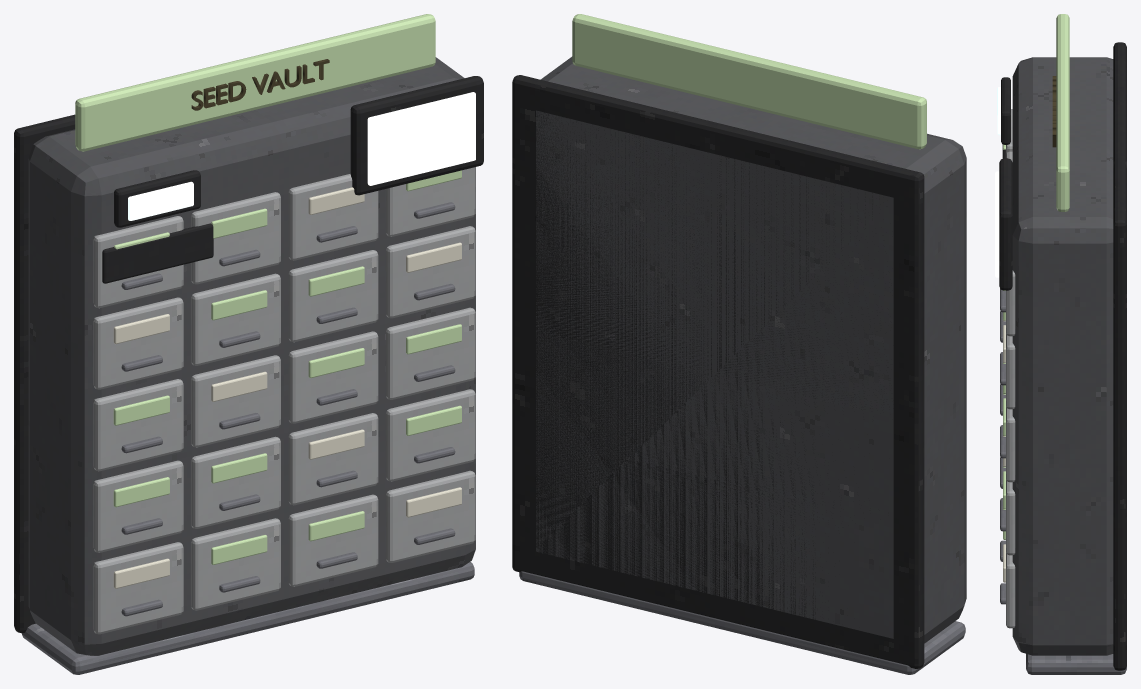
Rendered from decor_bot_seed_vault.glb.
3 views of the same model, side by side, from view 1: azimuth 30°, elevation 25°; view 2: azimuth 150°, elevation 25°; view 3: azimuth 270°, elevation 25° (orthographic). The views are drawn at different scales.
Parts seen in each view (by area): view 1: DEC_BotSeedVault__Carcass, DEC_BotSeedVault__Header, DEC_BotSeedVault__Carcass_Trim, DEC_BotSeedVault__Catalogue_Glow, DEC_BotSeedVault__Under_Shelf, DEC_BotSeedVault__Drawer_3, DEC_BotSeedVault__Drawer_7, DEC_BotSeedVault__Drawer_15, DEC_BotSeedVault__Drawer_5, DEC_BotSeedVault__Drawer_11, DEC_BotSeedVault__Drawer_1, DEC_BotSeedVault__Drawer_9 (+36 smaller); view 2: DEC_BotSeedVault__Carcass, DEC_BotSeedVault__Carcass_Trim, DEC_BotSeedVault__Header, DEC_BotSeedVault__Under_Shelf; view 3: DEC_BotSeedVault__Carcass, DEC_BotSeedVault__Carcass_Trim, DEC_BotSeedVault__Header, DEC_BotSeedVault__Catalogue_Bezel, DEC_BotSeedVault__Under_Shelf, DEC_BotSeedVault__Drawer_4, DEC_BotSeedVault__Drawer_8, DEC_BotSeedVault__Drawer_12, DEC_BotSeedVault__Drawer_16, DEC_BotSeedVault__Chill_Bezel, DEC_BotSeedVault__Drawer_20, DEC_BotSeedVault__Catalogue_Glow (+1 smaller).
Boxes of the visible parts, x1=… form: DEC_BotSeedVault__Carcass: x1=28, y1=57, x2=475, y2=655; DEC_BotSeedVault__Header: x1=75, y1=14, x2=435, y2=151; DEC_BotSeedVault__Carcass_Trim: x1=14, y1=114, x2=75, y2=632; DEC_BotSeedVault__Catalogue_Glow: x1=367, y1=92, x2=475, y2=185; DEC_BotSeedVault__Under_Shelf: x1=21, y1=562, x2=474, y2=674; DEC_BotSeedVault__Drawer_3: x1=288, y1=494, x2=378, y2=586; DEC_BotSeedVault__Drawer_7: x1=288, y1=413, x2=378, y2=505; DEC_BotSeedVault__Drawer_15: x1=288, y1=250, x2=378, y2=342; DEC_BotSeedVault__Drawer_5: x1=93, y1=460, x2=183, y2=552; DEC_BotSeedVault__Drawer_11: x1=288, y1=331, x2=378, y2=423; DEC_BotSeedVault__Drawer_1: x1=93, y1=542, x2=183, y2=634; DEC_BotSeedVault__Drawer_9: x1=93, y1=379, x2=183, y2=471; DEC_BotSeedVault__Carcass: x1=536, y1=56, x2=966, y2=643; DEC_BotSeedVault__Carcass_Trim: x1=512, y1=75, x2=924, y2=668; DEC_BotSeedVault__Header: x1=572, y1=14, x2=926, y2=149; DEC_BotSeedVault__Under_Shelf: x1=519, y1=571, x2=965, y2=674; DEC_BotSeedVault__Carcass: x1=1012, y1=57, x2=1113, y2=655; DEC_BotSeedVault__Carcass_Trim: x1=1113, y1=42, x2=1126, y2=670; DEC_BotSeedVault__Header: x1=1056, y1=14, x2=1069, y2=211; DEC_BotSeedVault__Catalogue_Bezel: x1=999, y1=158, x2=1012, y2=290; DEC_BotSeedVault__Under_Shelf: x1=1026, y1=654, x2=1126, y2=674; DEC_BotSeedVault__Drawer_4: x1=1006, y1=552, x2=1015, y2=628; DEC_BotSeedVault__Drawer_8: x1=1006, y1=479, x2=1015, y2=555; DEC_BotSeedVault__Drawer_12: x1=1006, y1=406, x2=1015, y2=482; DEC_BotSeedVault__Drawer_16: x1=1006, y1=333, x2=1015, y2=409; DEC_BotSeedVault__Chill_Bezel: x1=1001, y1=77, x2=1010, y2=144; DEC_BotSeedVault__Drawer_20: x1=1006, y1=270, x2=1015, y2=336; DEC_BotSeedVault__Catalogue_Glow: x1=995, y1=171, x2=999, y2=277.
Size of what is drawn, in the model's own units: 1.28 by 1.64 by 0.3925.
Materials: 13 (4 with a texture image).
